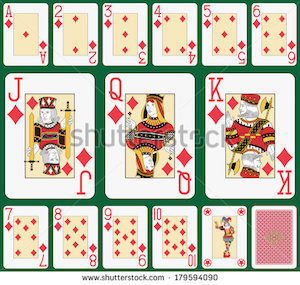AceOfDiamonds: (2, 2, 51, 69)
JackOfDiamonds: (1, 72, 99, 201)
KingOfDiamonds: (200, 70, 297, 201)
NineOfDiamonds: (100, 203, 150, 269)
QueenOfDiamonds: (104, 70, 201, 201)
TenOfDiamonds: (149, 206, 202, 269)
